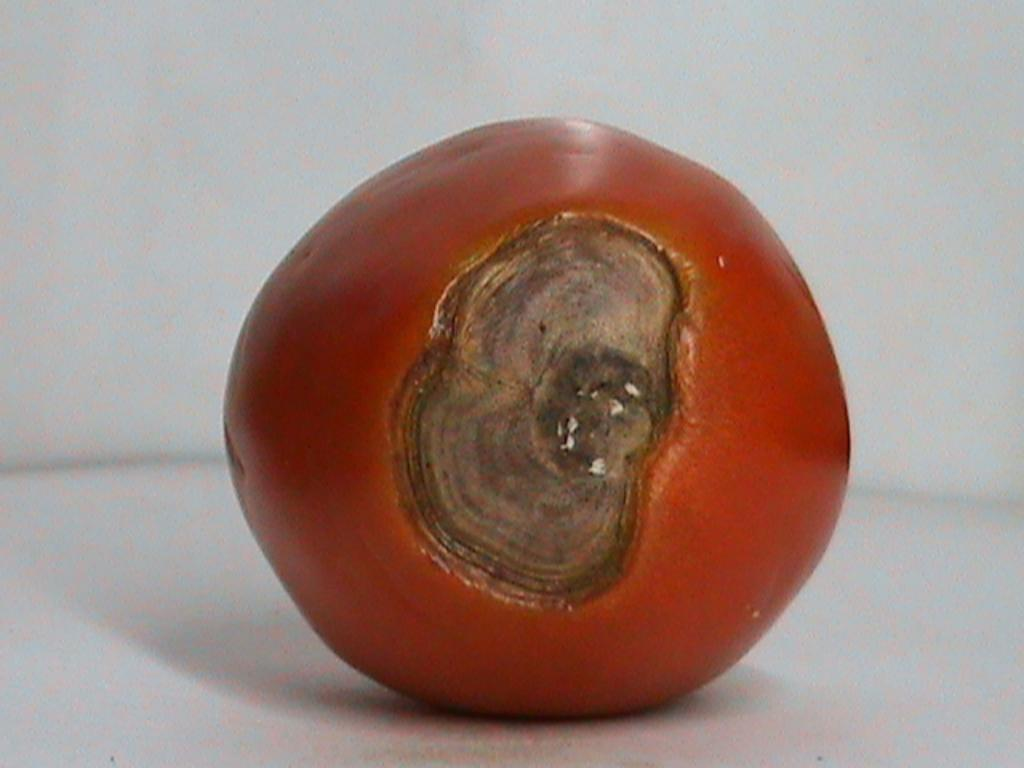surface_damage: (405, 214, 680, 600)
tomato: (224, 120, 848, 714)
